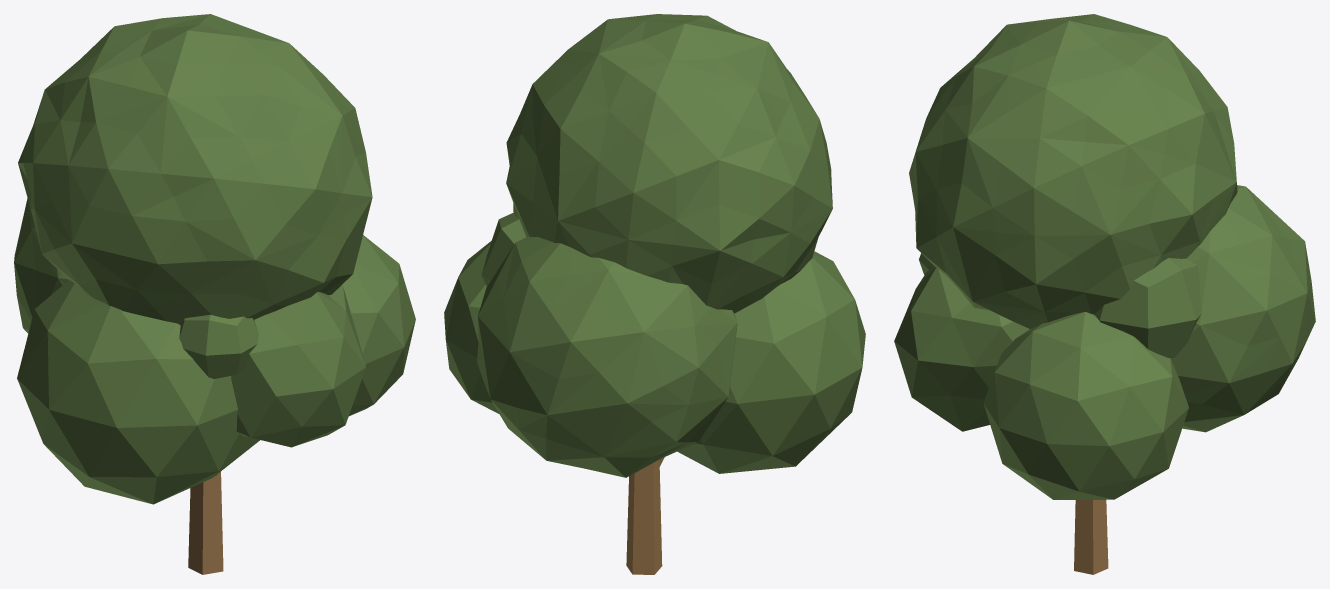
The model's file is tree_12.fbx.
3 views of the same model, side by side, from view 1: azimuth 30°, elevation 25°; view 2: azimuth 150°, elevation 25°; view 3: azimuth 270°, elevation 25° (orthographic). The views are drawn at different scales.
Visible parts, largest first — view 1: tree_12; view 2: tree_12; view 3: tree_12.
Boxes of the visible parts, box(x1,y1,x2,y2) form: tree_12: box(14, 14, 415, 574); tree_12: box(444, 14, 865, 574); tree_12: box(894, 14, 1315, 574).
Bounding box in the file's own units: 4.71 × 4.66 × 6.49.
